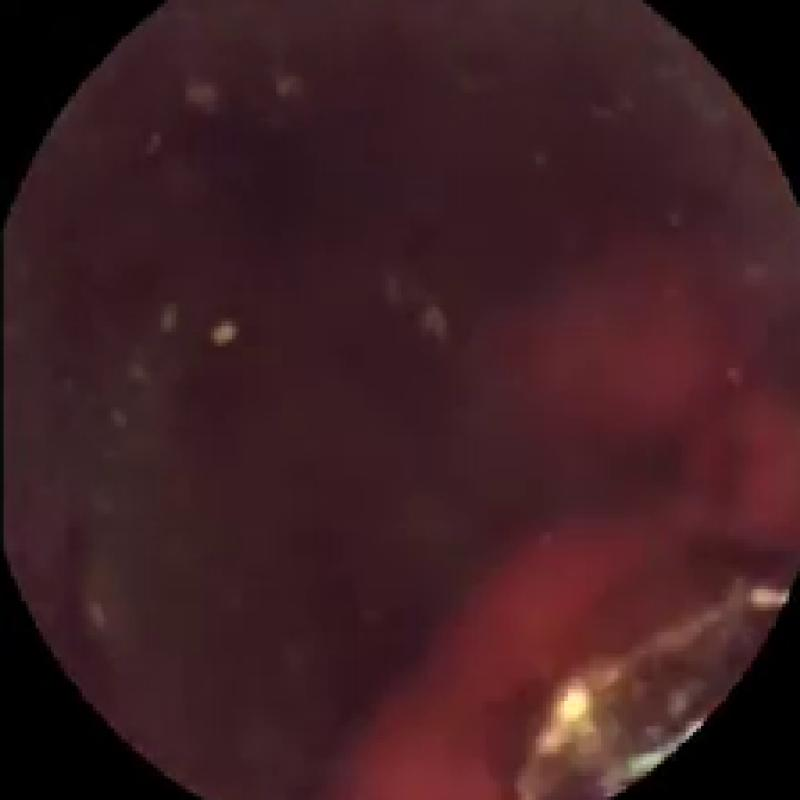bleeding: (350, 278, 800, 800)
